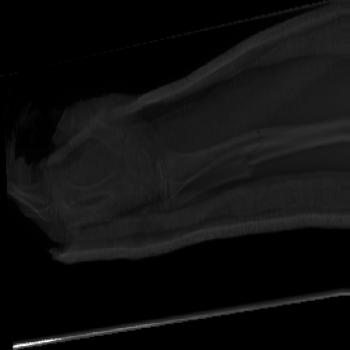Fracture: (249, 124, 267, 154)
